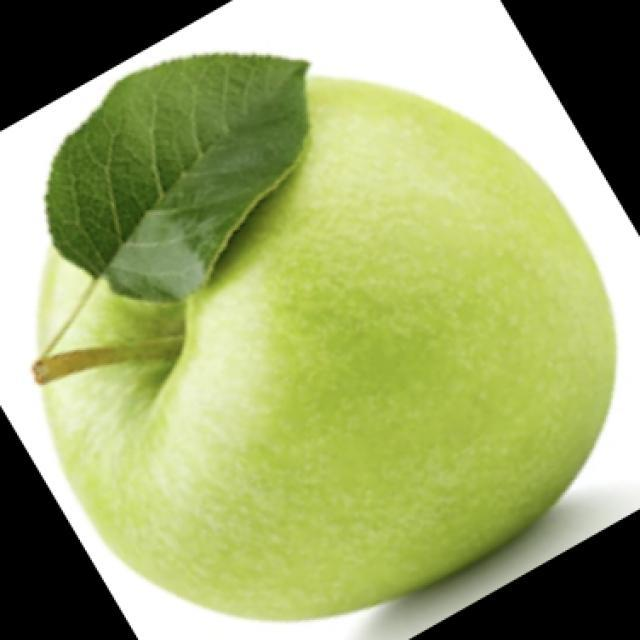Fresh Apple: (56, 68, 603, 640)
